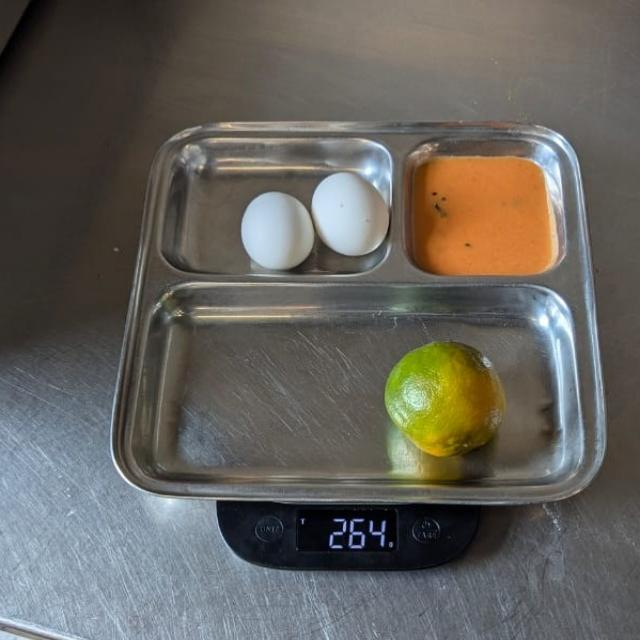Boiled Egg: (238, 167, 391, 272)
Chutney: (402, 150, 551, 278)
Orange: (384, 338, 509, 460)
